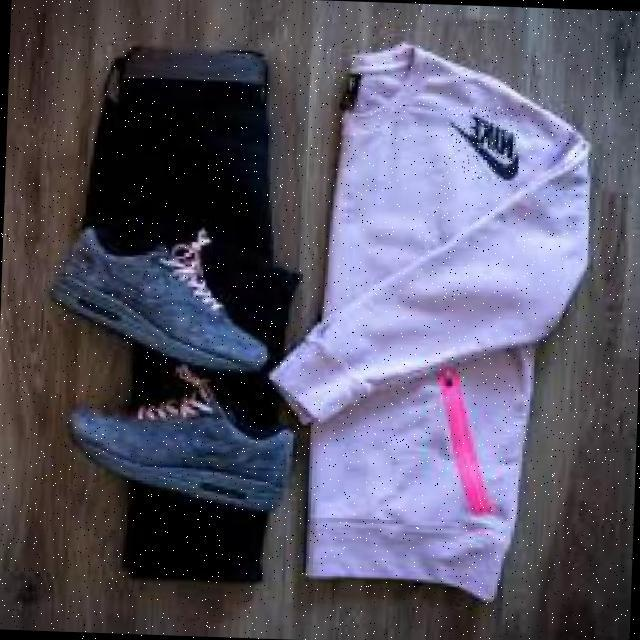Nike: (441, 105, 520, 181)
